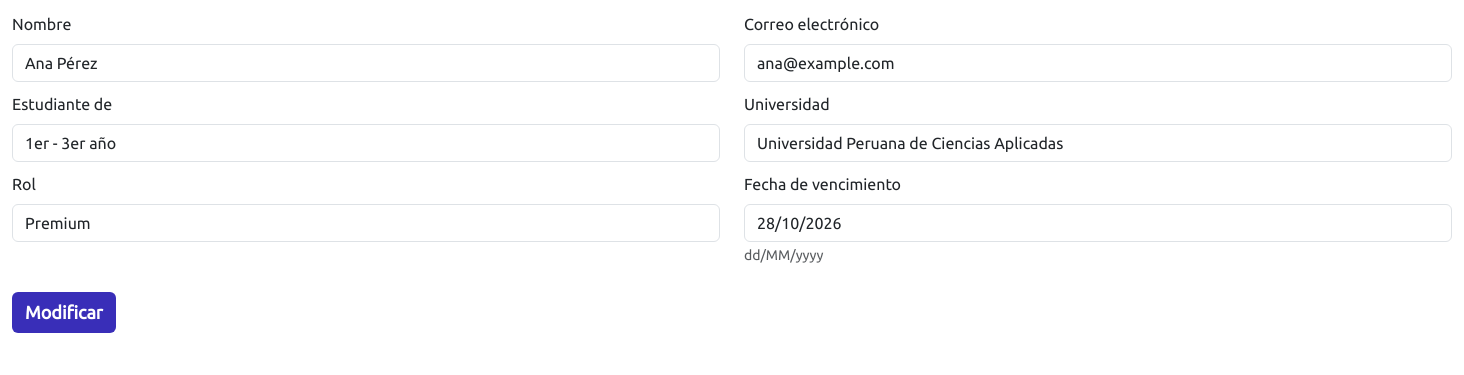
Test: rejects invalid premium expiration 31/02/2027 without saving
Step 1. Replace the text in the field labelled "Fecha de vencimiento" with "31/02/2027" → point(1098, 223), box [744,204,1452,242]
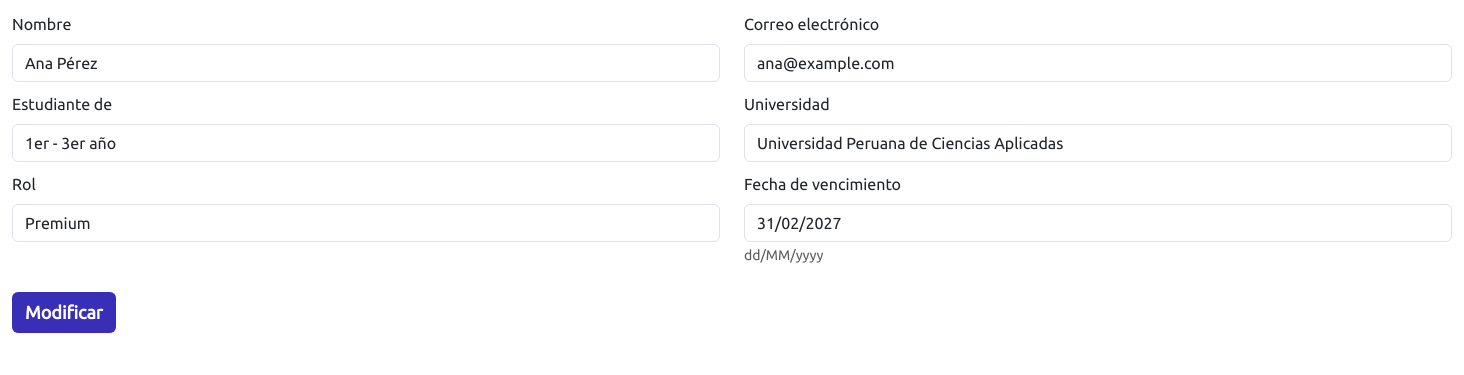
Step 2. Submit the form
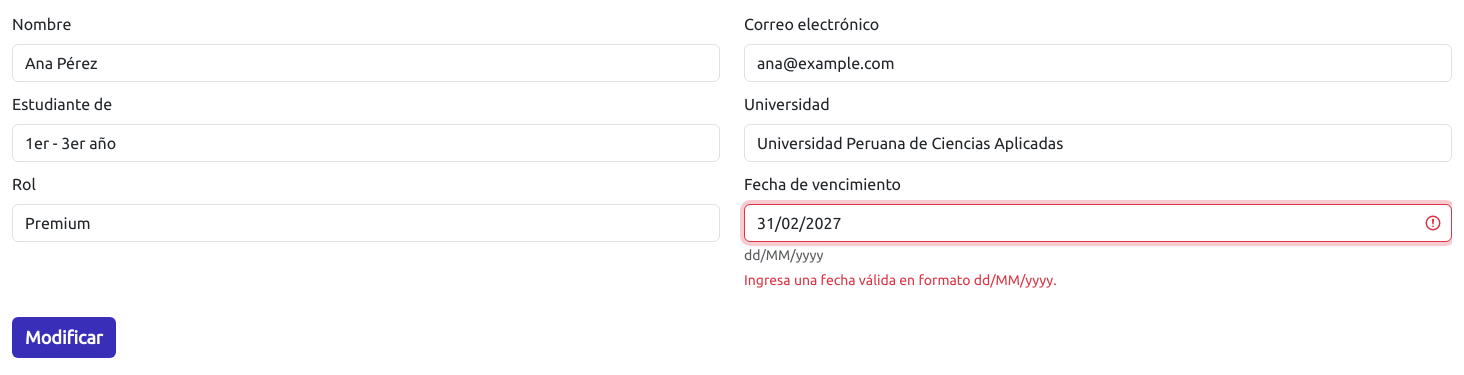
expect the text "Ingresa una fecha válida en formato dd/MM/yyyy." is shown: met, box [744,272,1057,288]
